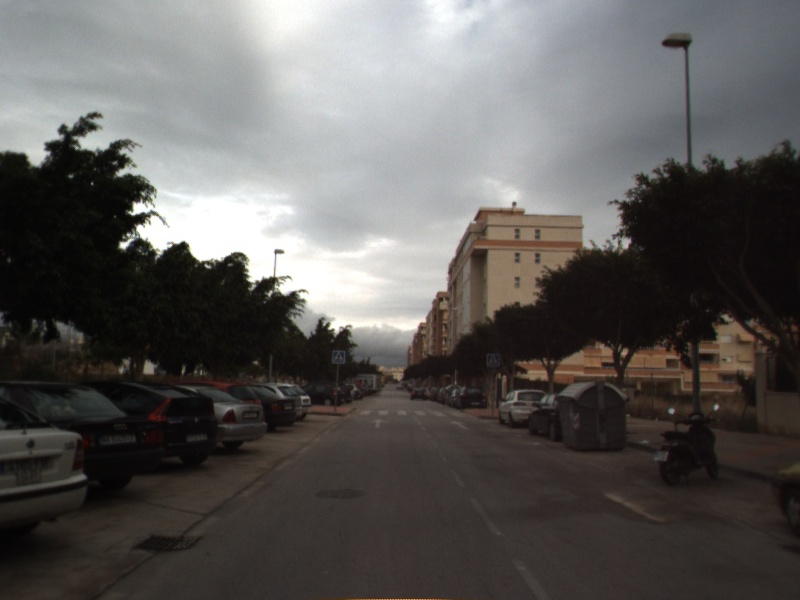STRAIGHT: (447, 418, 471, 432), (369, 416, 389, 430)
